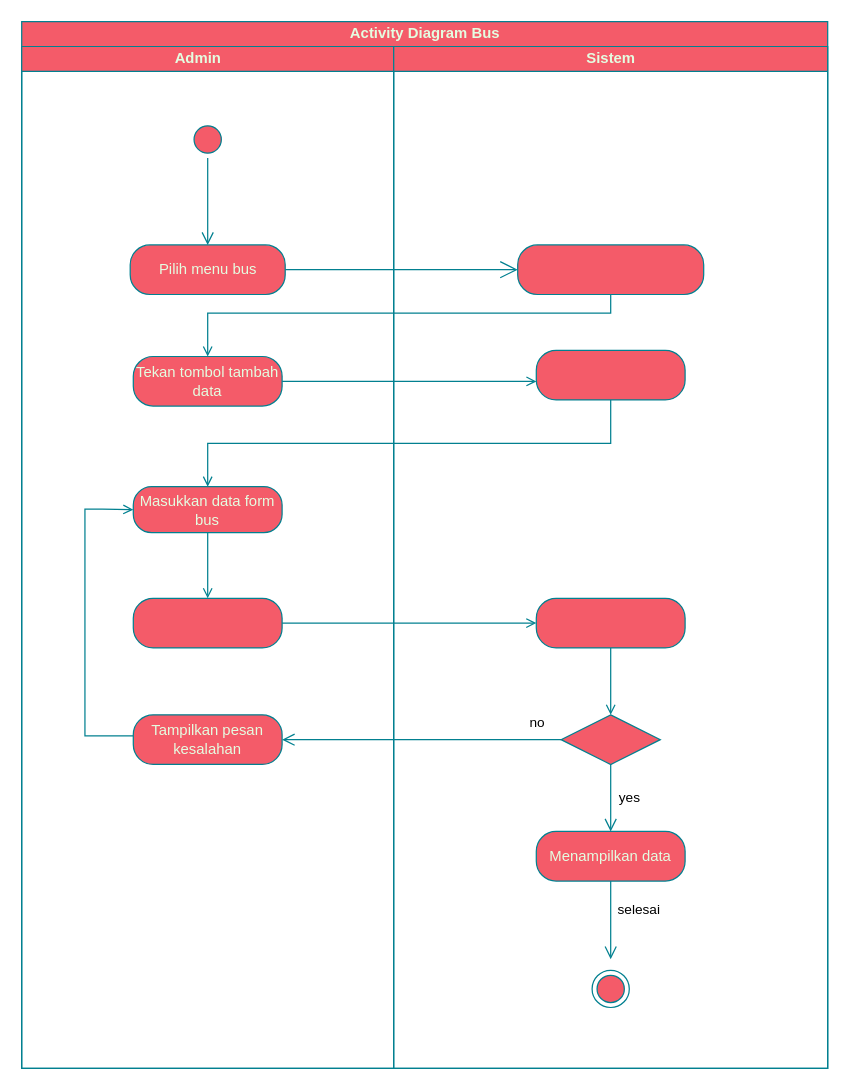
The diagram is 849 pixels wide and 1090 high, and some of its shapes have lost their labels. Each missing label, with the centre of its shape:
"Menampilkan form bus" goes at [610,374].
"Menampilkan halaman bus" goes at [610,269].
"Tekan tombol simpan" goes at [207,622].
"Validasi form bus" goes at [610,622].
